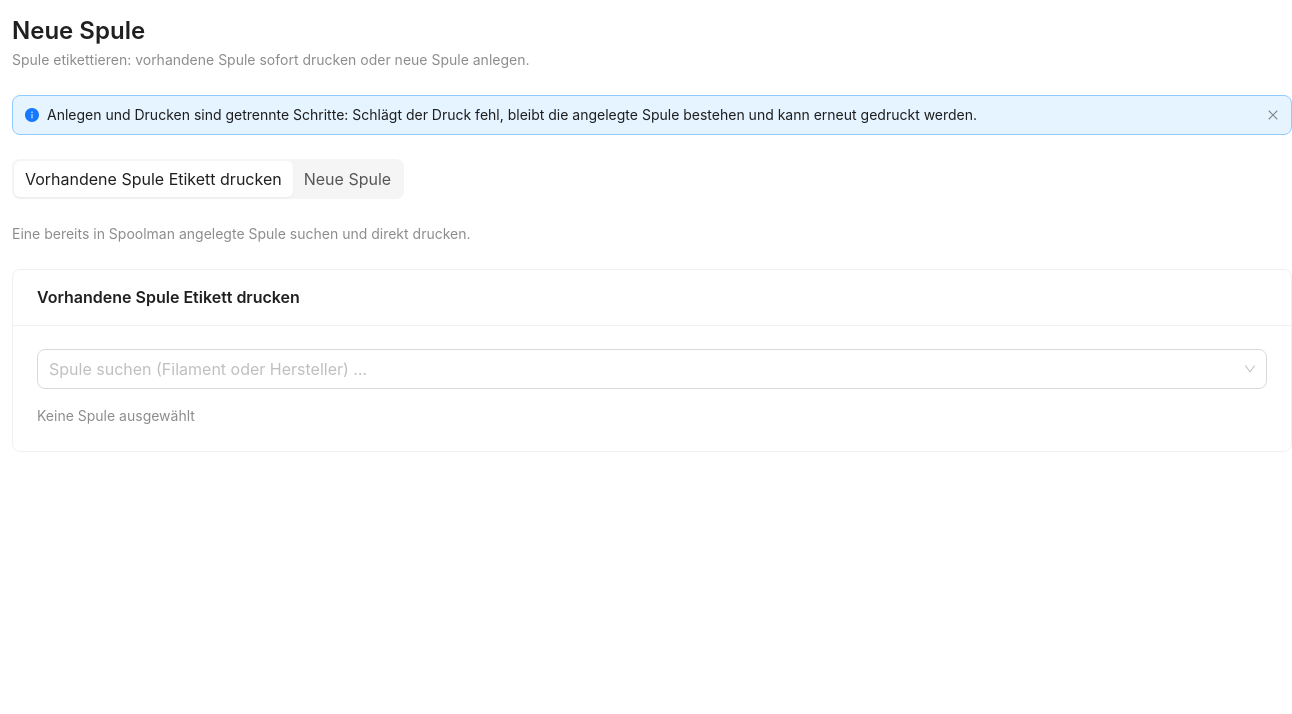
Test case: NewSpoolPage – vorhandene Spule drucken › zeigt einen Druckfehler bei einer vorhandenen Spule sichtbar an
Check: the heading "Neue Spule" is shown, box x1=12 y1=16 x2=145 y2=45
Step 1. Type "PLA" into the dropdown → (643, 369), box x1=49 y1=350 x2=1237 y2=388
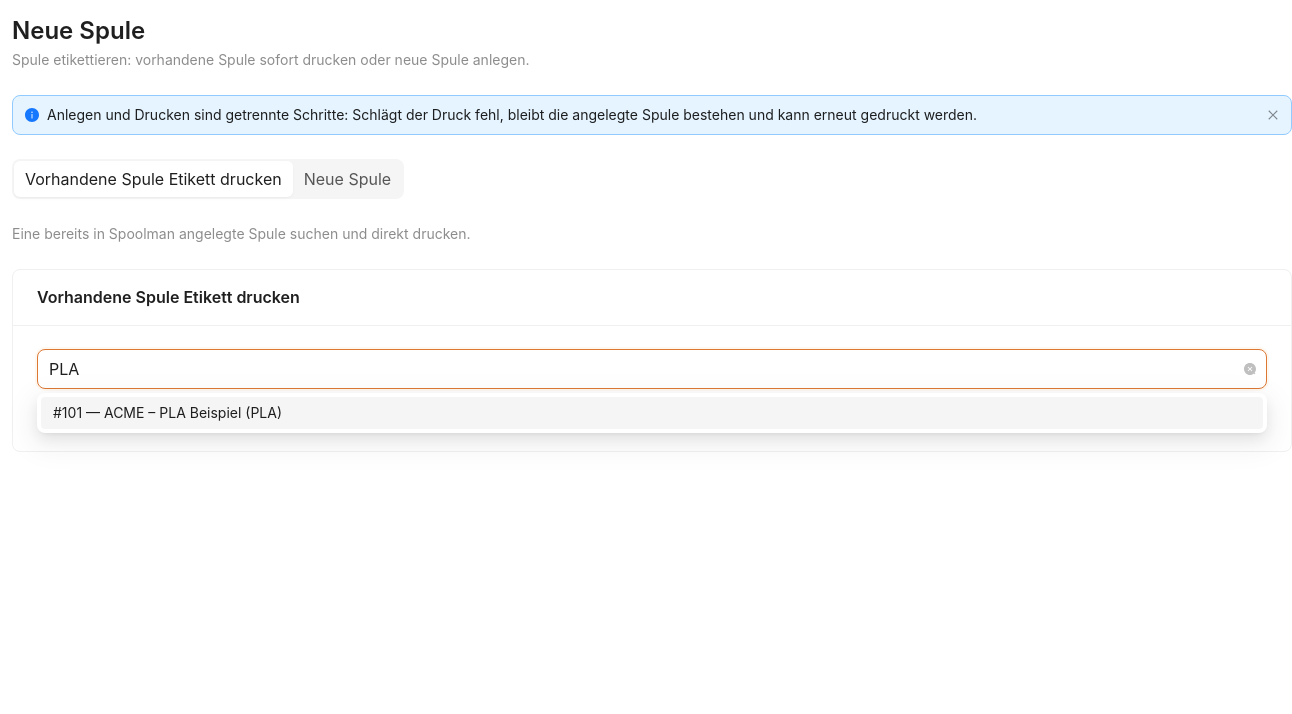
Step 2. Click the text "#101 — ACME – PLA Beispiel (PLA)" → (168, 412), box x1=53 y1=404 x2=282 y2=421
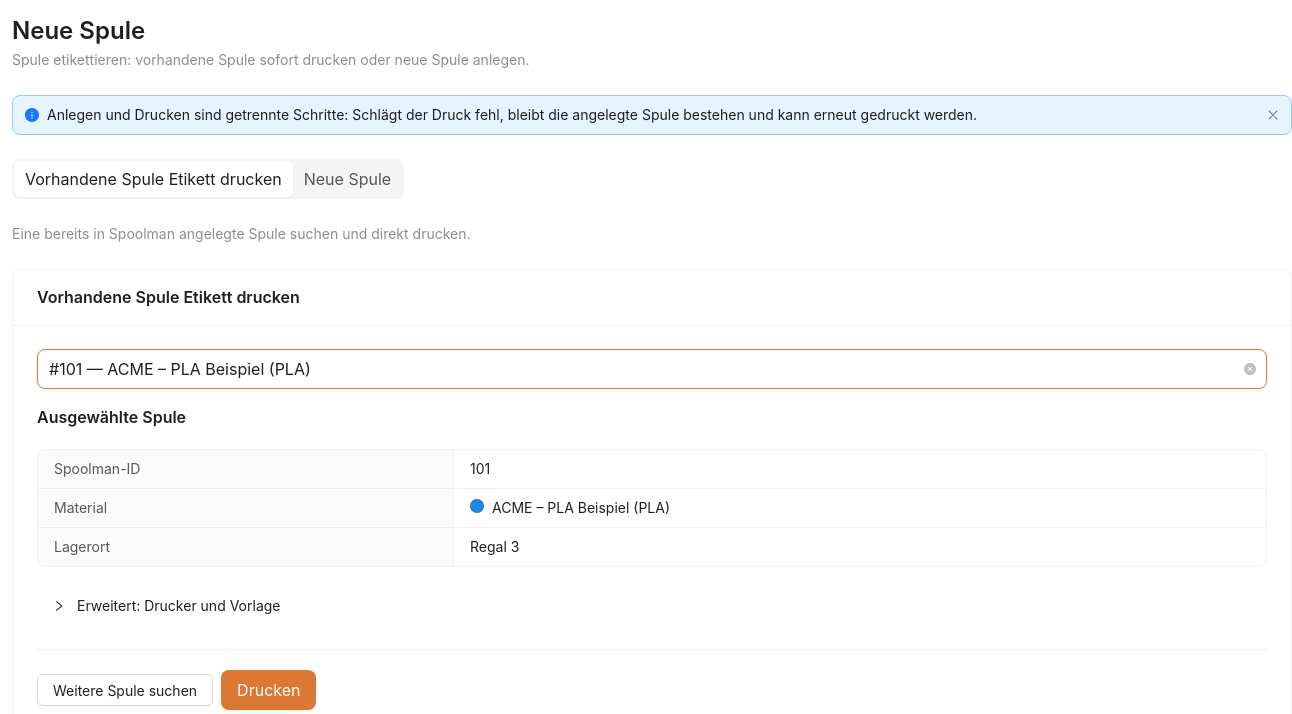
Step 3. Click the button "Drucken" → (269, 690), box x1=221 y1=670 x2=316 y2=710
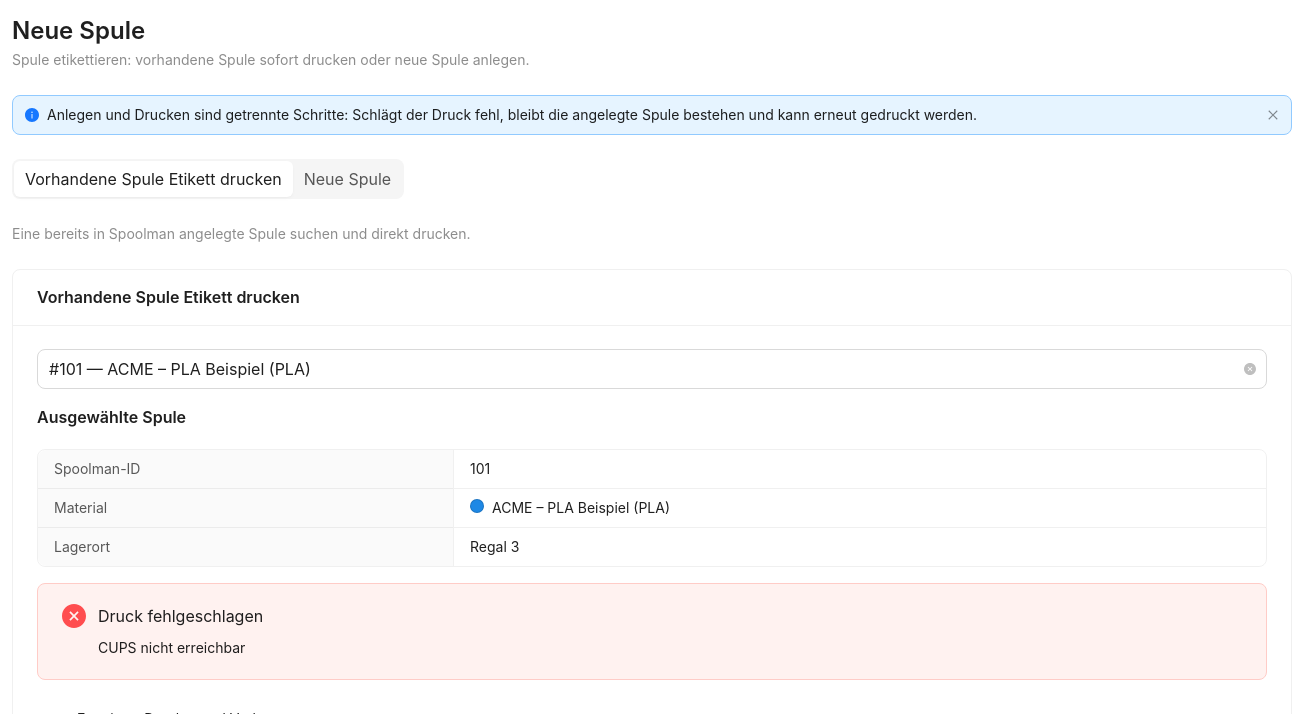
Check: the text "Druck fehlgeschlagen" is shown, box x1=98 y1=606 x2=263 y2=626
Check: the text "CUPS nicht erreichbar" is shown, box x1=98 y1=639 x2=245 y2=656
